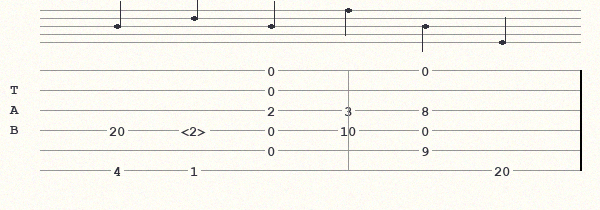0: (267, 64, 279, 77), (267, 144, 279, 157), (267, 124, 279, 137), (267, 84, 279, 97), (421, 124, 433, 137), (421, 64, 433, 77)
1: (190, 164, 202, 177)
10: (340, 124, 360, 137)
2: (267, 104, 279, 117)
20: (109, 124, 129, 137), (494, 164, 514, 177)
3: (344, 104, 356, 117)
4: (113, 164, 125, 177)
8: (421, 104, 433, 117)
9: (421, 144, 433, 157)
harmonic: (181, 124, 211, 137)
